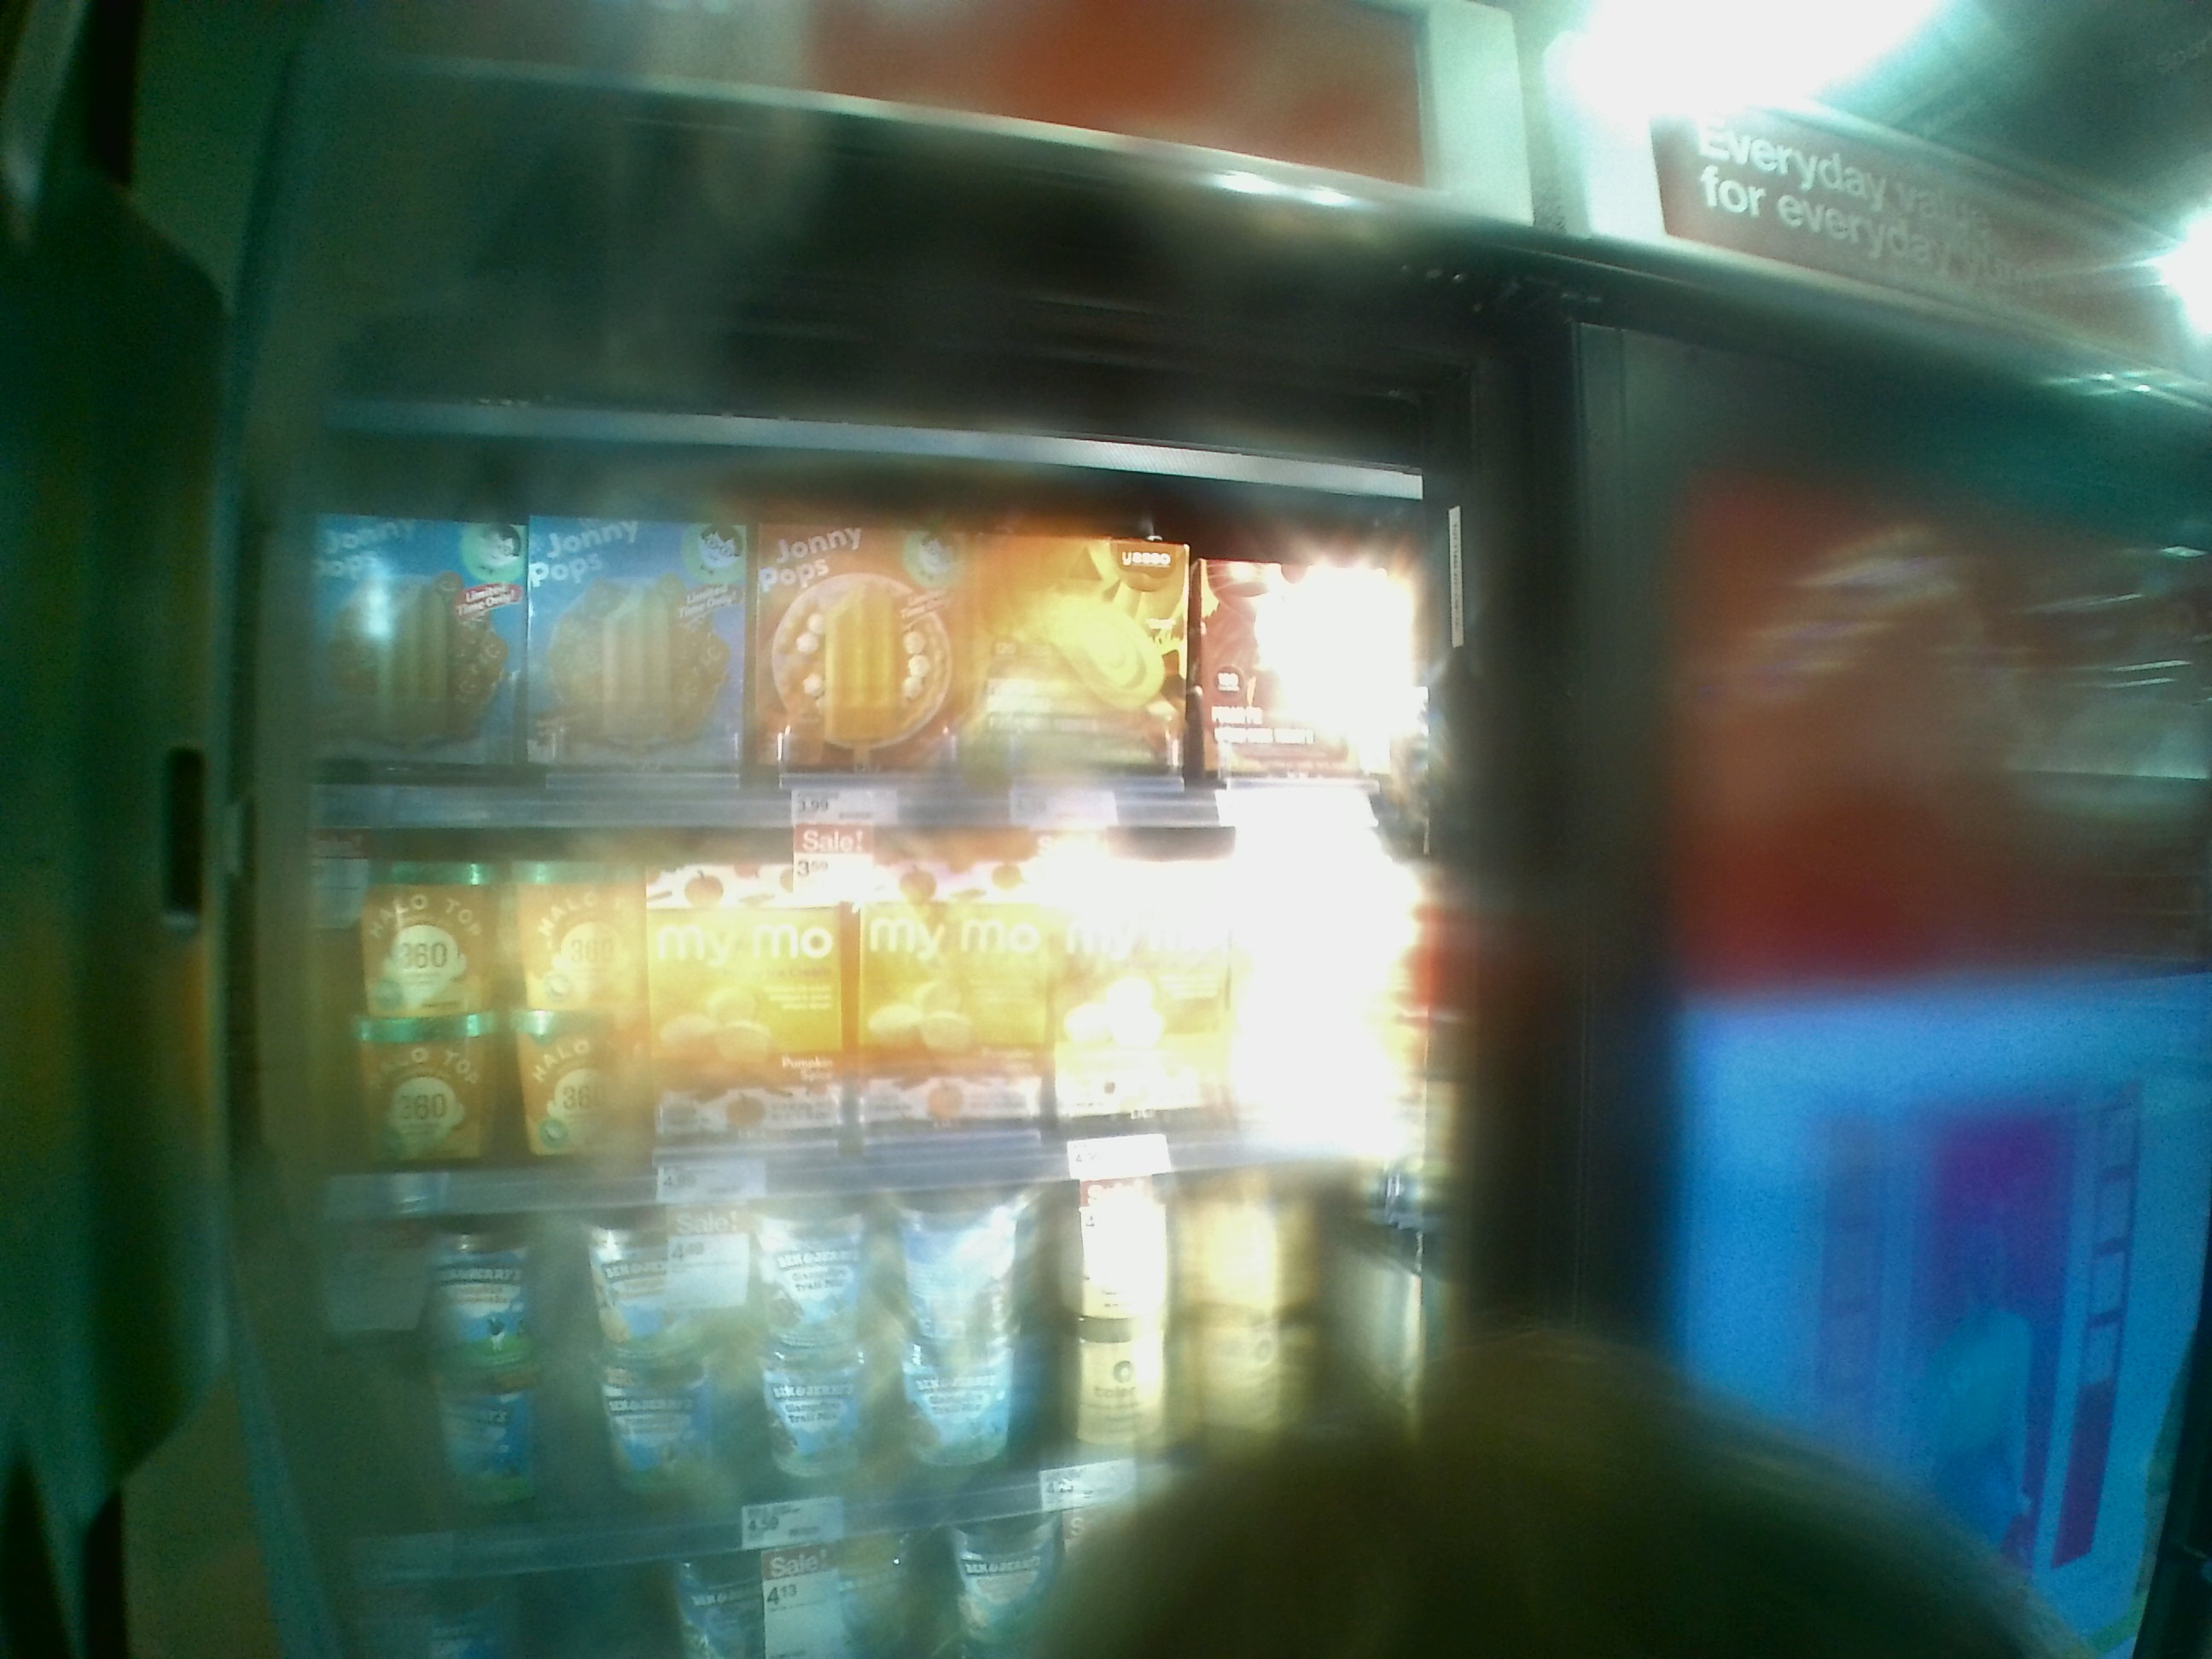shelf: (275, 439, 1456, 843), (279, 833, 1460, 1169)
